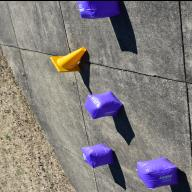cone: (50, 46, 86, 72)
cube: (136, 156, 178, 188), (84, 90, 122, 118), (82, 142, 116, 166), (76, 0, 121, 18)
